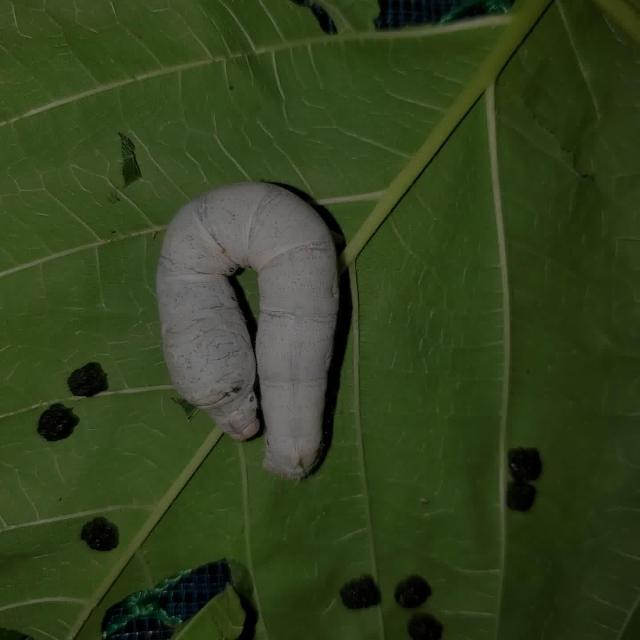Healthy: (122, 136, 419, 564)
